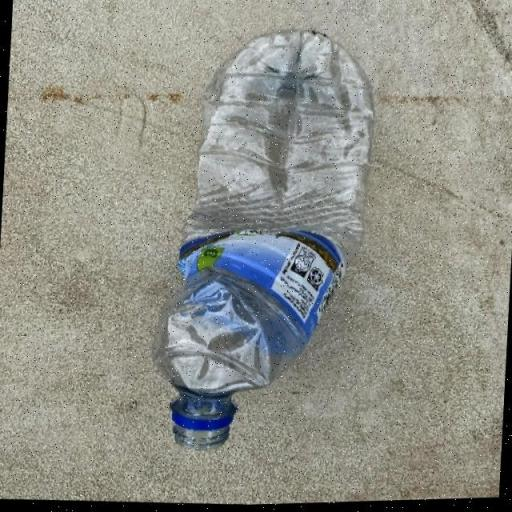plastic: (146, 21, 380, 461)
